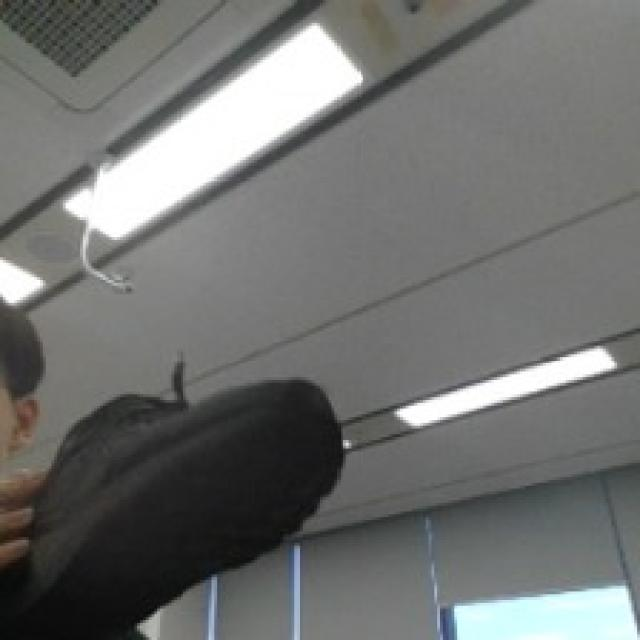shoes: (28, 315, 368, 629)
